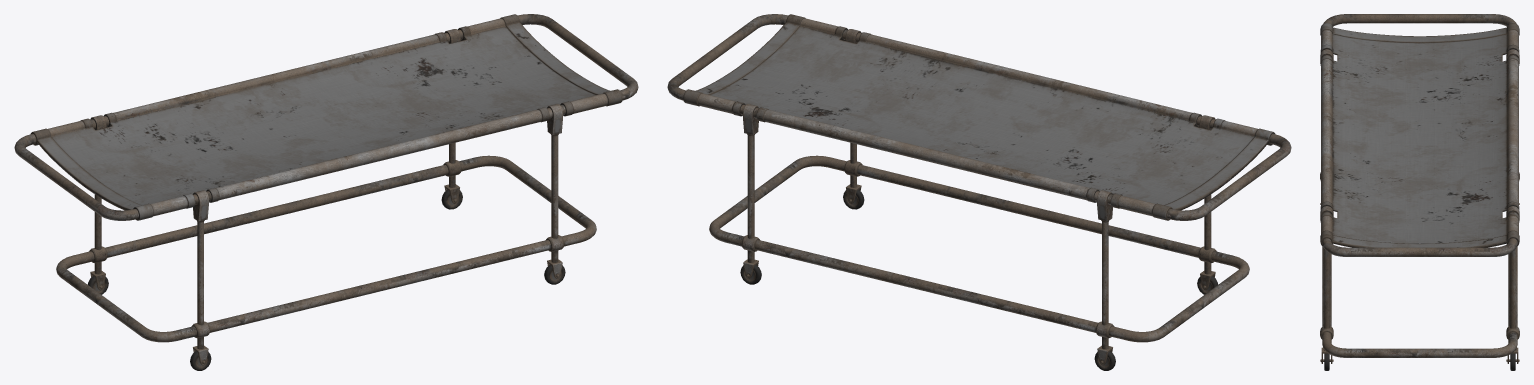
File: SM_MedicalBed01_LOD0.glb
3 renders of one model, left to right at view 1: azimuth 30°, elevation 25°; view 2: azimuth 150°, elevation 25°; view 3: azimuth 270°, elevation 25°, orthographic. The views are drawn at different scales.
Visible parts, largest first — view 1: SM_MedicalBed01_LOD0; view 2: SM_MedicalBed01_LOD0; view 3: SM_MedicalBed01_LOD0.
Boxes of the visible parts, x1,y1,x2,y2 form: SM_MedicalBed01_LOD0: (14, 14, 638, 370); SM_MedicalBed01_LOD0: (667, 14, 1291, 370); SM_MedicalBed01_LOD0: (1320, 14, 1519, 370).
Bounding box in the file's own units: 2.66 × 0.8447 × 0.9439.
Materials: 1 (1 with a texture image).
